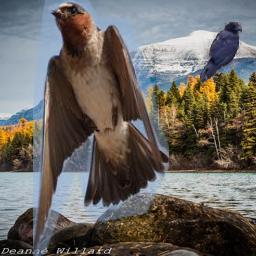Crow: (200, 22, 242, 82)
Swallow: (33, 0, 169, 256)
